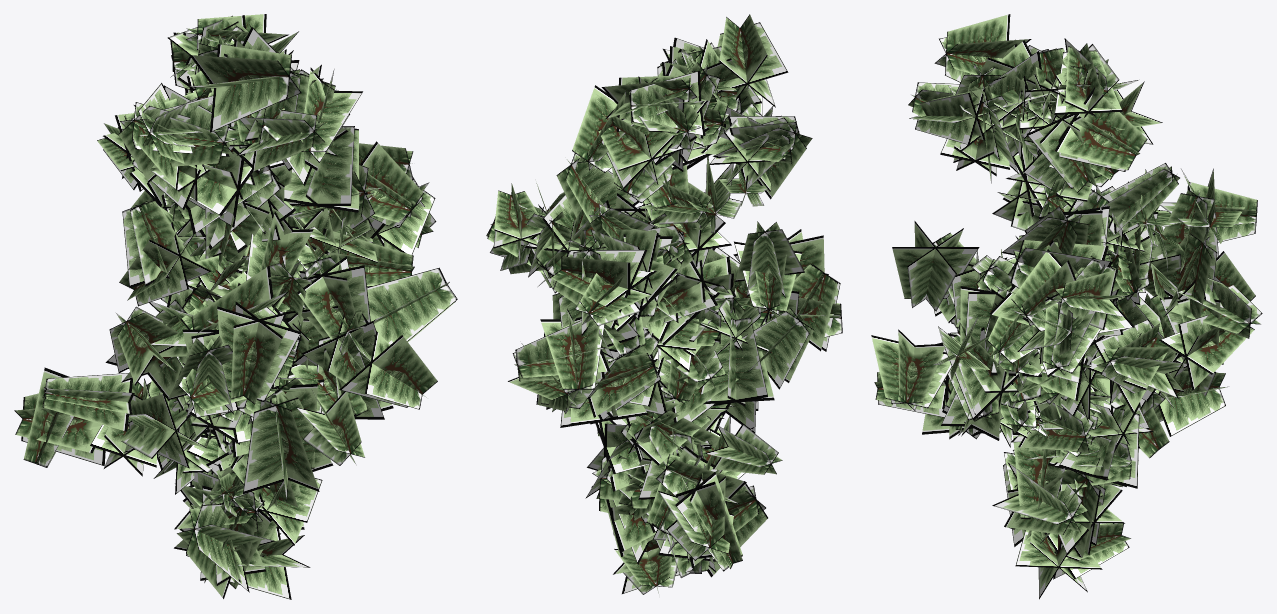
File: Leaf.fbx
3 renders of one model, left to right at view 1: azimuth 30°, elevation 25°; view 2: azimuth 150°, elevation 25°; view 3: azimuth 270°, elevation 25°, orthographic. The views are drawn at different scales.
Parts seen in each view (by area): view 1: Leaf_LOD0; view 2: Leaf_LOD0; view 3: Leaf_LOD0.
Part boxes in pixels (x1,y1,x2,y2): Leaf_LOD0: (14,14,457,599); Leaf_LOD0: (486,14,842,594); Leaf_LOD0: (871,14,1262,599).
Size of what is drawn, in the model's own units: 17.83 by 28.55 by 18.77.
Materials: 1 (1 with a texture image).
